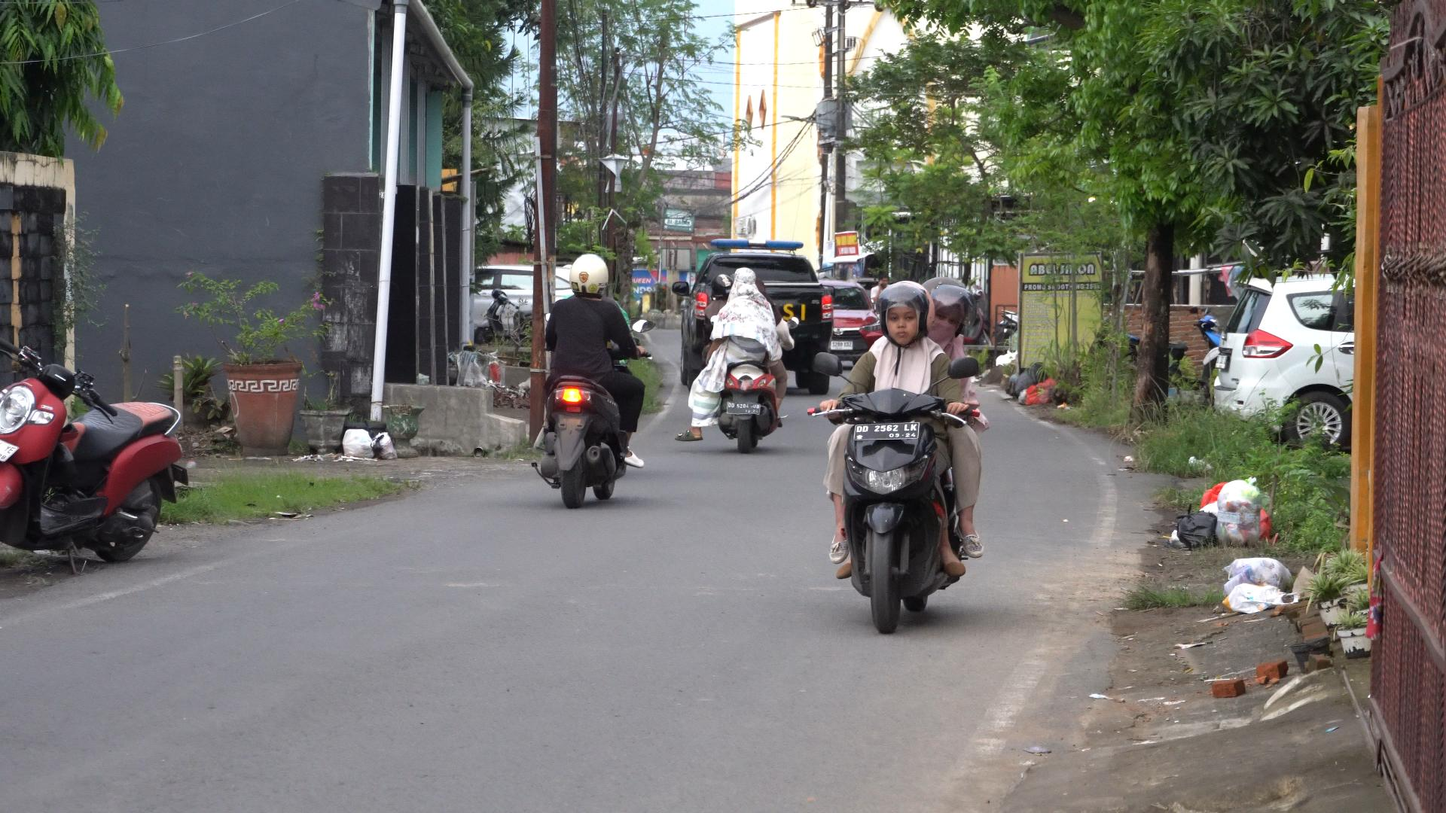number-plate: (850, 419, 924, 448)
